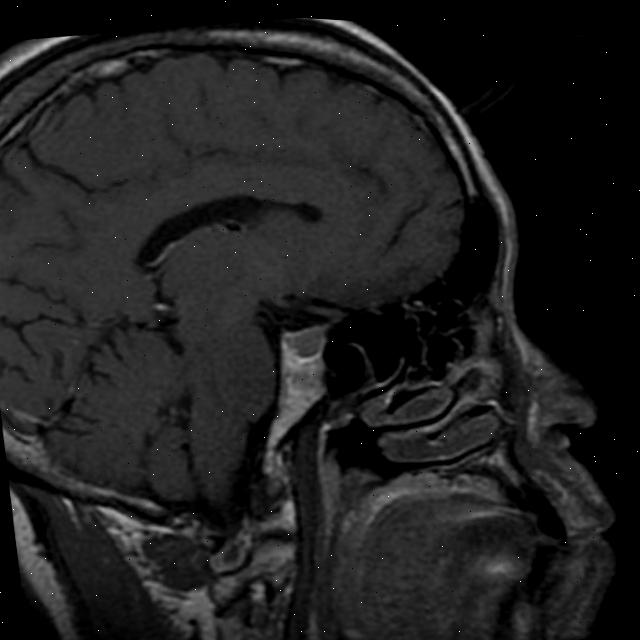Pituitary: (279, 321, 331, 371)
